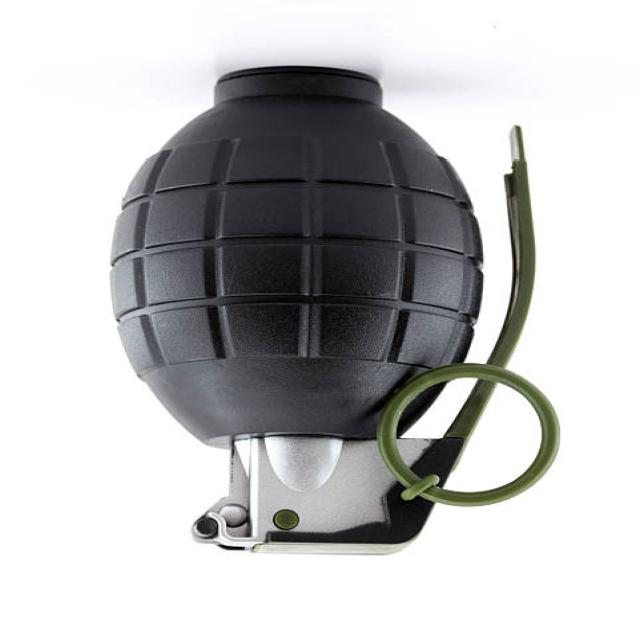grenade: (93, 61, 566, 567)
